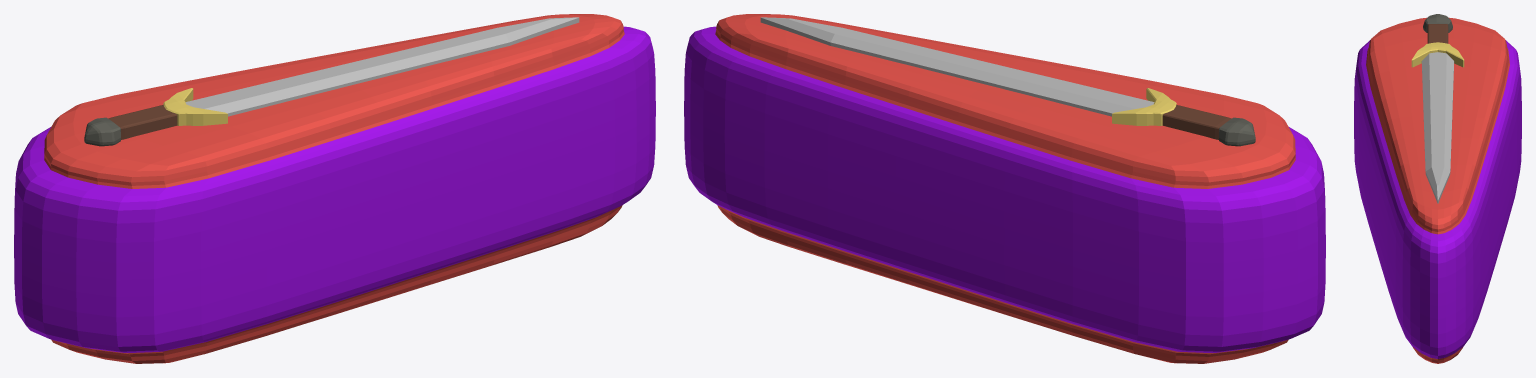
File: Flipper_4.fbx
3 renders of one model, left to right at view 1: azimuth 30°, elevation 25°; view 2: azimuth 150°, elevation 25°; view 3: azimuth 270°, elevation 25°, orthographic. The views are drawn at different scales.
Visible parts, largest first — view 1: Cube, Cube.001, Cube.002, Cube.003; view 2: Cube, Cube.001, Cube.002, Cube.003; view 3: Cube, Cube.001, Cube.002, Cube.003.
Part boxes in pixels (x1,y1,x2,y2): Cube: (14,14,655,363); Cube.001: (163,17,579,125); Cube.002: (108,105,177,139); Cube.003: (84,117,120,146); Cube: (684,14,1325,363); Cube.001: (760,17,1176,125); Cube.002: (1162,105,1231,139); Cube.003: (1219,117,1255,146); Cube: (1354,17,1521,363); Cube.001: (1411,42,1464,203); Cube.002: (1427,24,1448,43); Cube.003: (1423,14,1452,32).
Size of the model in its own units: 809 by 267 by 247.
